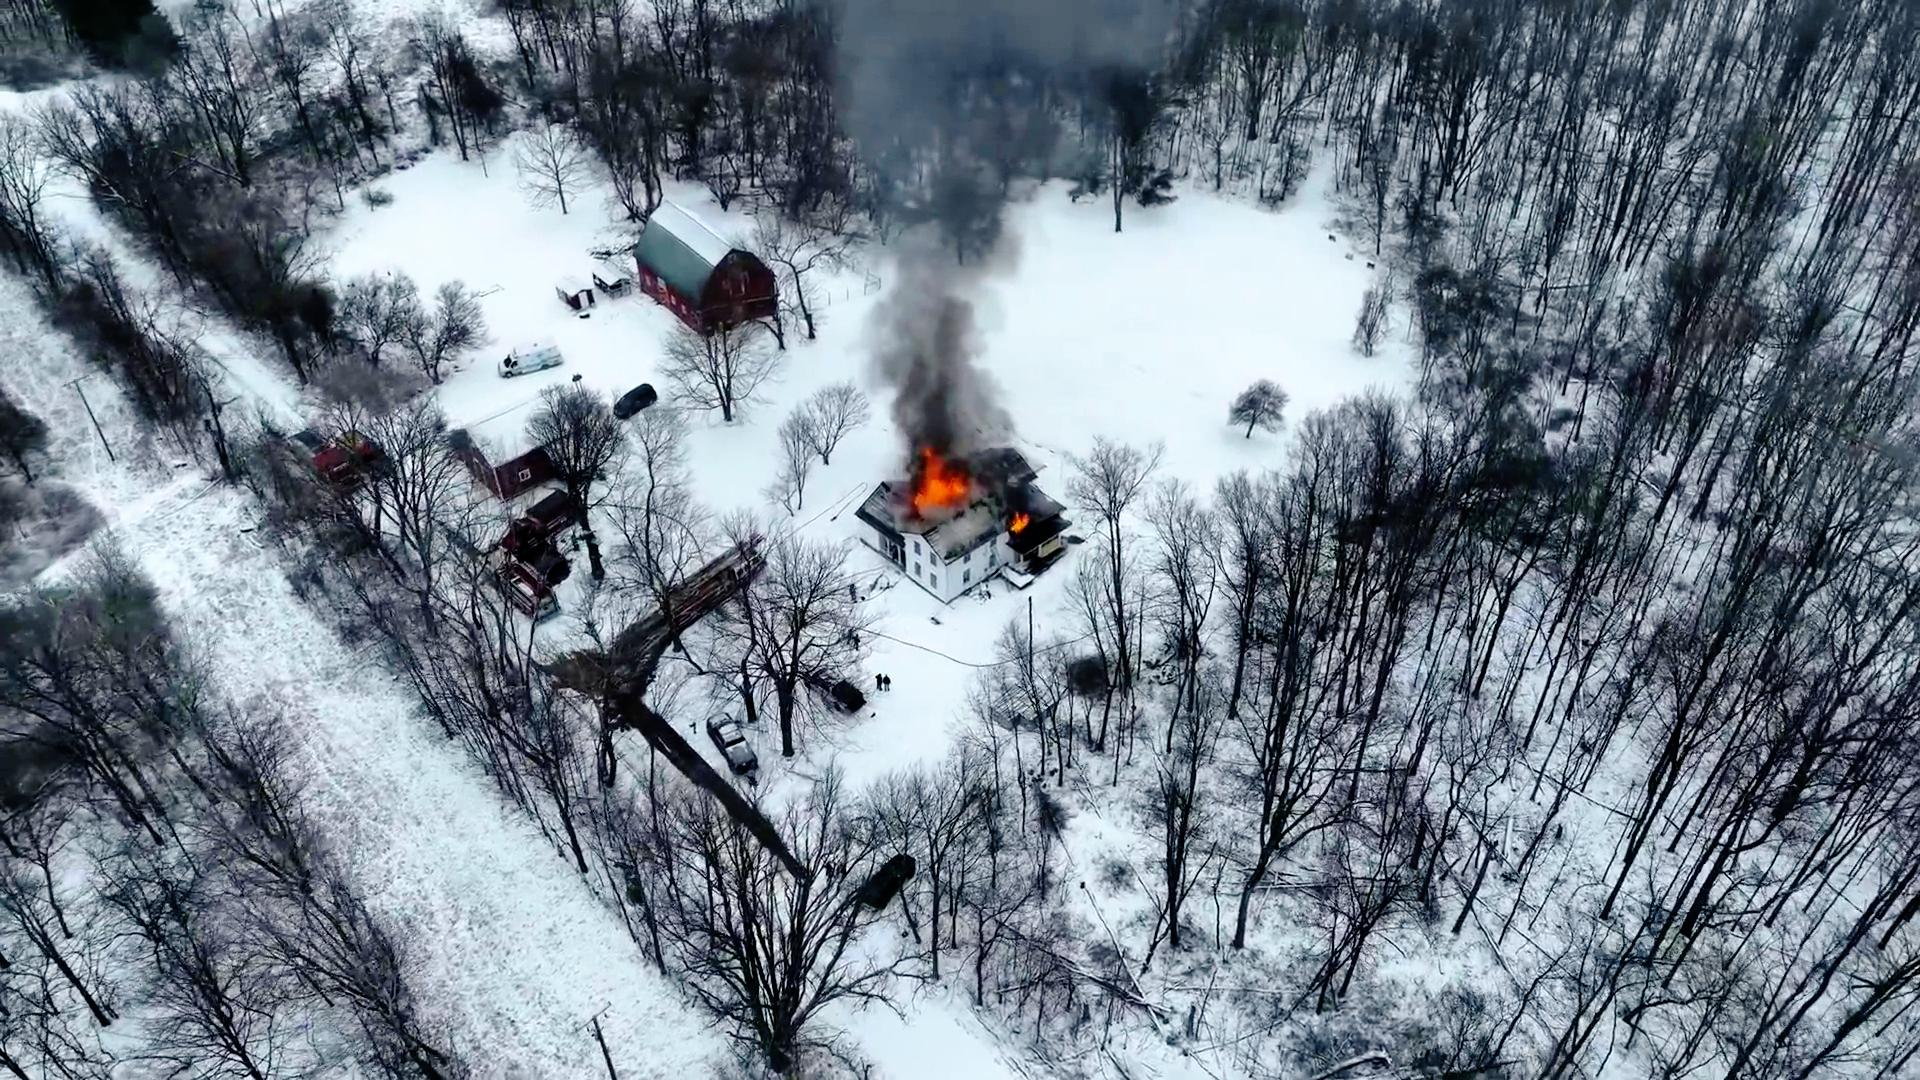fire: (893, 5, 985, 421), (906, 460, 961, 498)
